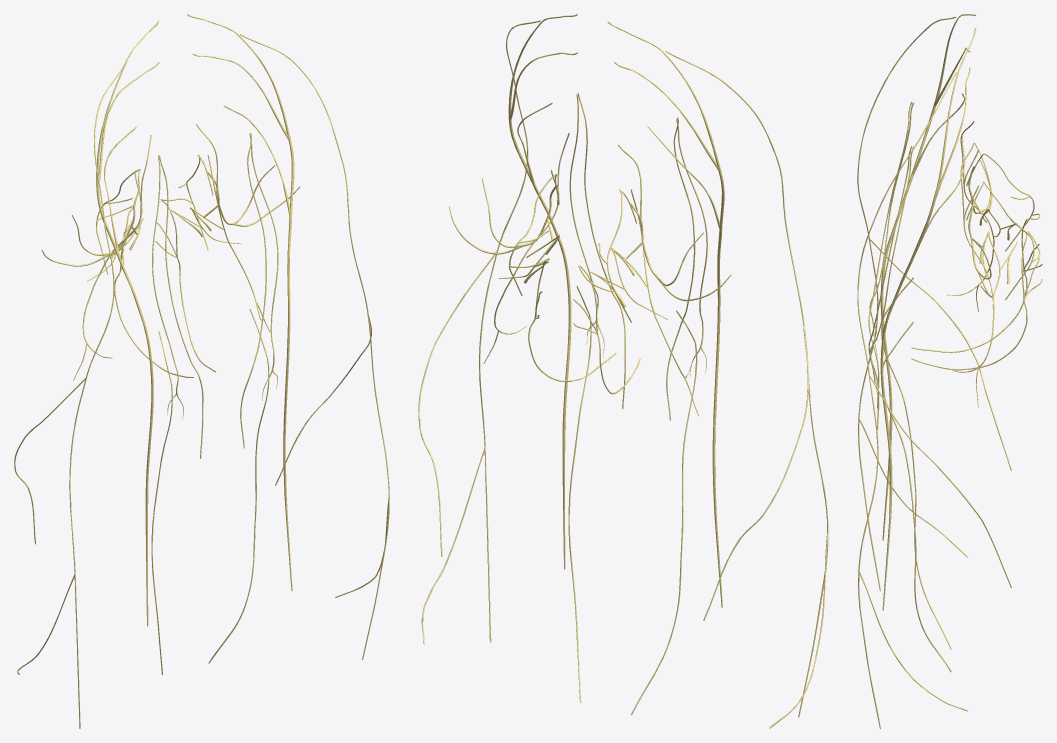
Rendered from nerfs-bassin.lo.glb.
The picture shows the model from 3 angles, left to right: view 1: azimuth 30°, elevation 25°; view 2: azimuth 150°, elevation 25°; view 3: azimuth 270°, elevation 25°; orthographic projection. The views are drawn at different scales.
Parts seen in each view (by area): view 1: ZA-femoral-nerve-g, ZA-femoral-nerve-d, ZA-lateral-femoral-cutaneous-nerve-d, ZA-lateral-femoral-cutaneous-nerve-g, ZA-anterior-branch-of-obturator-nerve-g, ZA-anterior-branch-of-obturator-nerve-d, ZA-nerve-to-quadratus-femoris-muscle-d, ZA-genital-branch-of-genitofemoral-nerve-g; view 2: ZA-femoral-nerve-d, ZA-lateral-femoral-cutaneous-nerve-g, ZA-lateral-femoral-cutaneous-nerve-d, ZA-femoral-nerve-g, ZA-anterior-branch-of-obturator-nerve-g, ZA-anterior-branch-of-obturator-nerve-d, ZA-nerve-to-quadratus-femoris-muscle-d; view 3: ZA-femoral-nerve-g, ZA-lateral-femoral-cutaneous-nerve-g, ZA-lateral-femoral-cutaneous-nerve-d, ZA-femoral-nerve-d, ZA-nerve-to-quadratus-femoris-muscle-g, ZA-anterior-branch-of-obturator-nerve-d, ZA-anterior-branch-of-obturator-nerve-g, ZA-genital-branch-of-genitofemoral-nerve-d, ZA-pudendal-nerve-g, ZA-genital-branch-of-genitofemoral-nerve-g, ZA-nerve-to-quadratus-femoris-muscle-d, ZA-femoral-branch-of-genitofemoral-nerve-g (+5 smaller).
Part boxes in pixels (box(x1,y1,x2,y2)): ZA-femoral-nerve-g: box(187, 14, 294, 590); ZA-femoral-nerve-d: box(96, 21, 159, 626); ZA-lateral-femoral-cutaneous-nerve-d: box(14, 62, 126, 728); ZA-lateral-femoral-cutaneous-nerve-g: box(240, 34, 389, 659); ZA-anterior-branch-of-obturator-nerve-g: box(208, 309, 269, 663); ZA-anterior-branch-of-obturator-nerve-d: box(151, 331, 172, 674); ZA-nerve-to-quadratus-femoris-muscle-d: box(73, 135, 151, 380); ZA-genital-branch-of-genitofemoral-nerve-g: box(240, 133, 266, 448); ZA-femoral-nerve-d: box(607, 21, 724, 607); ZA-lateral-femoral-cutaneous-nerve-g: box(418, 20, 540, 644); ZA-lateral-femoral-cutaneous-nerve-d: box(665, 51, 828, 728); ZA-femoral-nerve-g: box(508, 14, 577, 569); ZA-anterior-branch-of-obturator-nerve-g: box(568, 286, 591, 702); ZA-anterior-branch-of-obturator-nerve-d: box(631, 310, 697, 715); ZA-nerve-to-quadratus-femoris-muscle-d: box(611, 144, 698, 416); ZA-femoral-nerve-g: box(880, 28, 976, 610); ZA-lateral-femoral-cutaneous-nerve-g: box(857, 72, 1011, 728); ZA-lateral-femoral-cutaneous-nerve-d: box(857, 17, 1011, 591); ZA-femoral-nerve-d: box(880, 14, 975, 540); ZA-nerve-to-quadratus-femoris-muscle-g: box(947, 143, 994, 407); ZA-anterior-branch-of-obturator-nerve-d: box(881, 277, 951, 649); ZA-anterior-branch-of-obturator-nerve-g: box(883, 322, 951, 672); ZA-genital-branch-of-genitofemoral-nerve-d: box(868, 102, 912, 408); ZA-pudendal-nerve-g: box(911, 233, 1042, 370); ZA-genital-branch-of-genitofemoral-nerve-g: box(868, 146, 912, 429); ZA-nerve-to-quadratus-femoris-muscle-d: box(947, 121, 994, 311); ZA-femoral-branch-of-genitofemoral-nerve-g: box(869, 147, 913, 394).
Size of the model in its own units: 0.3101 by 0.5476 by 0.1437.
